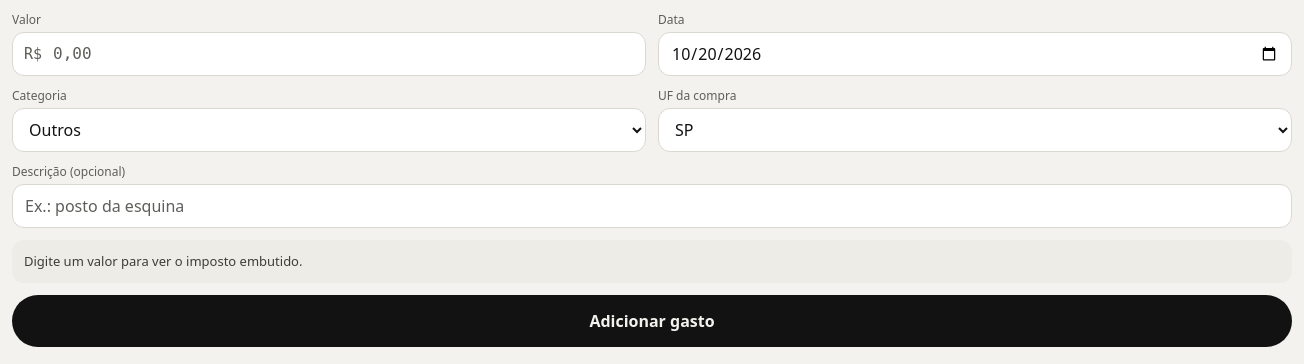
Scenario: ExpenseForm › mostra a prévia do imposto enquanto a pessoa digita
expect the text "Digite um valor para ver o imposto embutido." is shown: met, box [12,240,1292,283]
Type "100" into the field labelled "Valor" at point(329, 54), box [12,32,646,76]
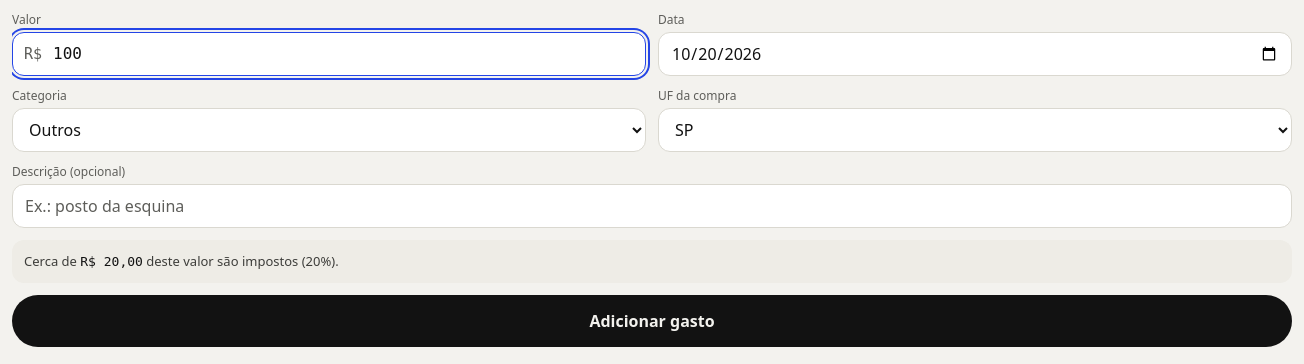
Select "Mercado" in the dropdown labelled "Categoria" at point(329, 130), box [12,108,646,152]
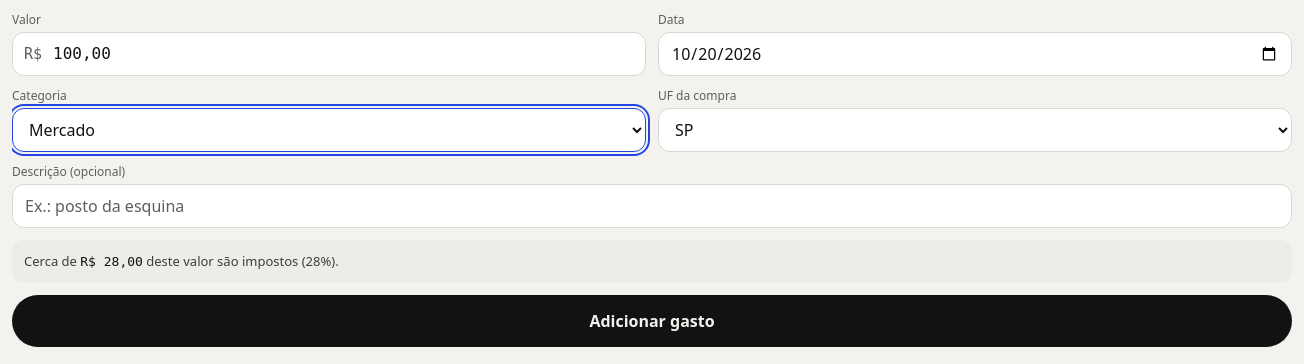
expect the text "R$ 28,00" is shown: met, box [80,254,143,269]
expect the text "Cerca de R$ 28,00 deste valor são impostos (28%)." is shown: met, box [12,240,1292,283]
